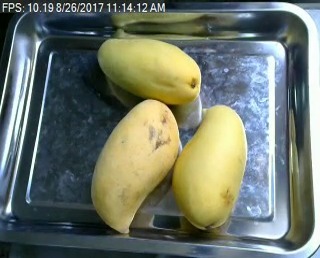Mango: (87, 98, 181, 236), (168, 103, 248, 232), (93, 32, 209, 108)
